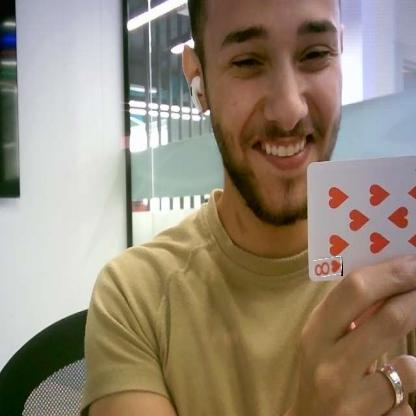8H: (313, 257, 343, 276)
